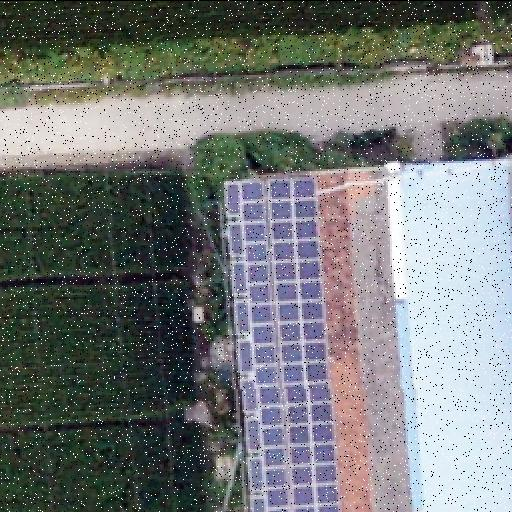solar-panel: (221, 160, 345, 510)
